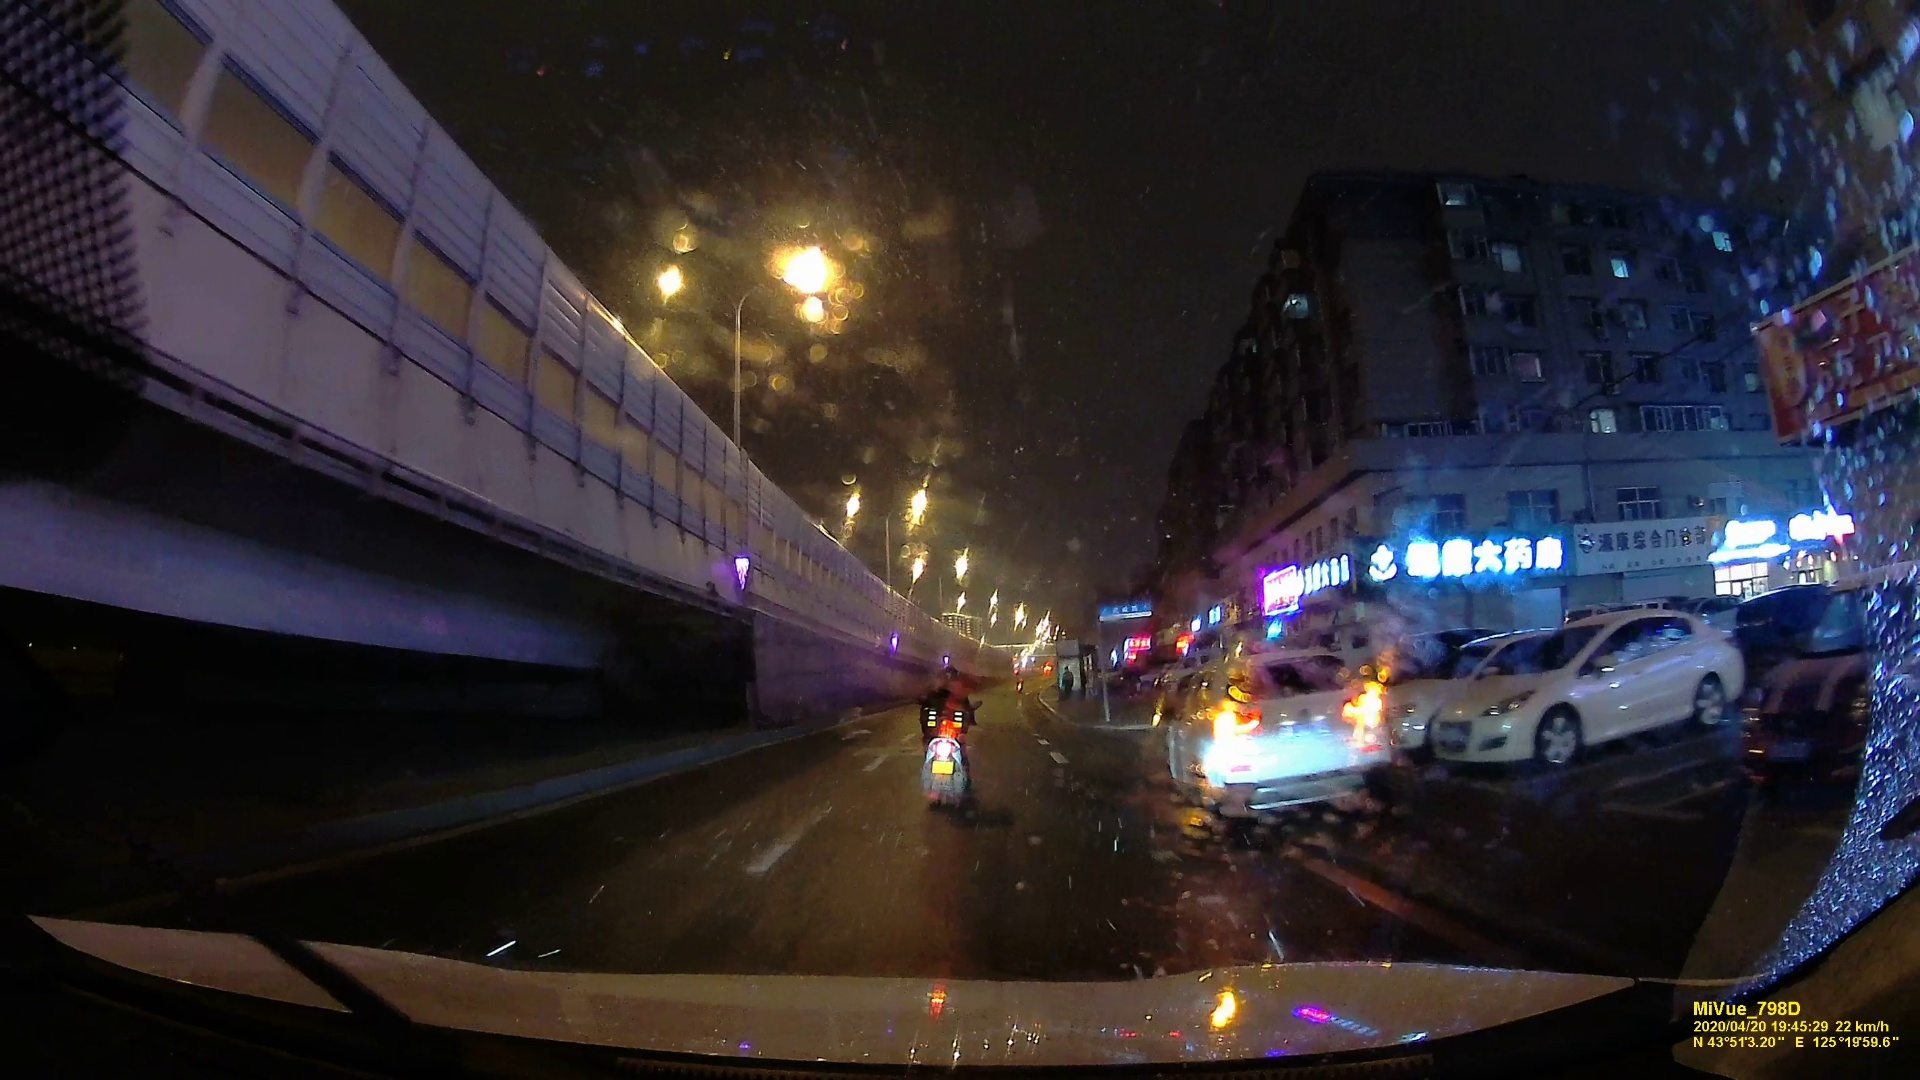person: (925, 662, 973, 747), (1058, 666, 1074, 700)
vehicle: (1427, 608, 1736, 770), (1161, 649, 1405, 824)
